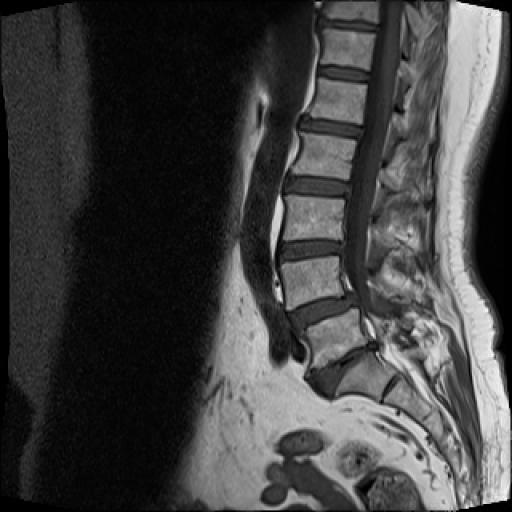L1: (311, 78, 367, 124)
L2: (292, 132, 357, 180)
L3: (283, 195, 345, 240)
L4: (281, 257, 343, 310)
L5: (303, 308, 366, 366)
S1: (334, 352, 395, 403)
